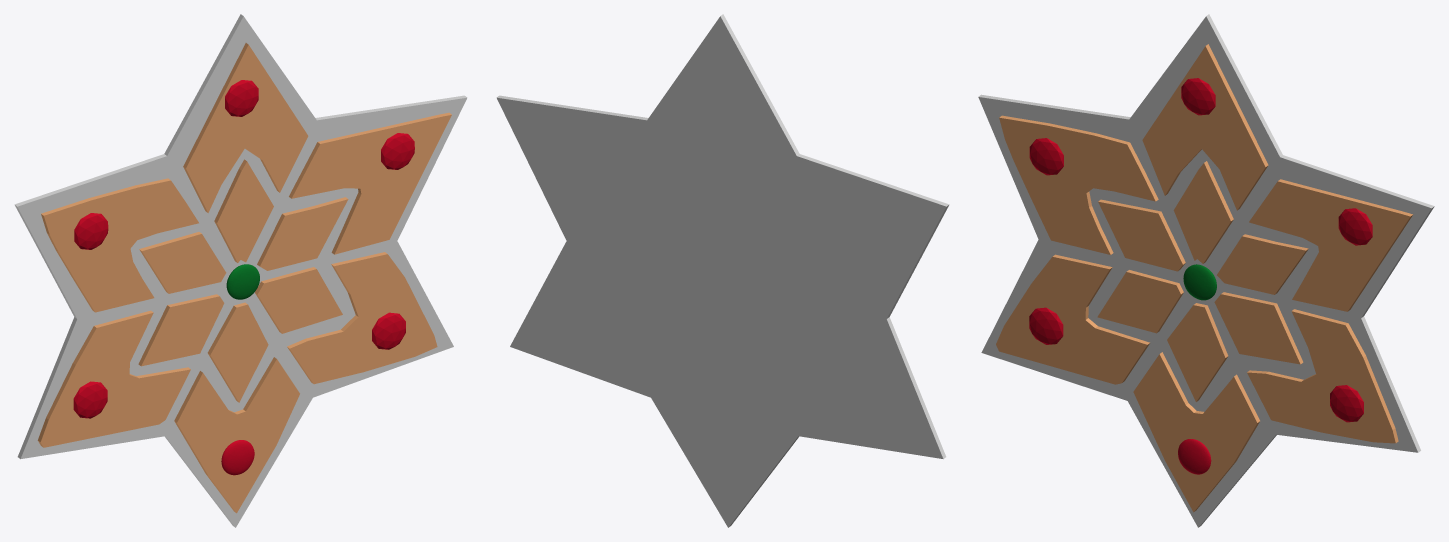
The model's file is Star.glb.
3 views of the same model, side by side, from view 1: azimuth 30°, elevation 25°; view 2: azimuth 150°, elevation 25°; view 3: azimuth 330°, elevation 25° (orthographic).
Parts seen in each view (by area): view 1: Star; view 2: Star; view 3: Star.
Part boxes in pixels (box(x1,y1,x2,y2)): Star: box(14, 14, 467, 527); Star: box(496, 14, 949, 527); Star: box(978, 14, 1434, 527).
Size of the model in its own units: 0.4497 by 0.4867 by 0.0146.
